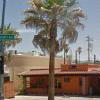Palm tree: (25, 2, 74, 95)
